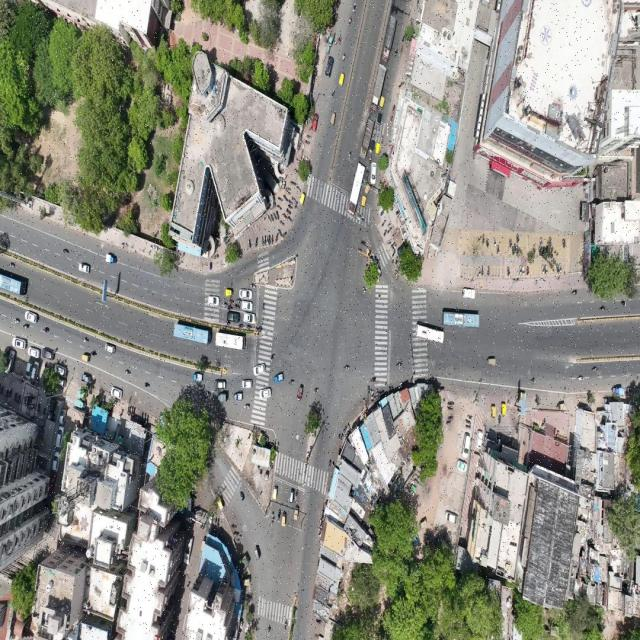3W: (252, 543, 262, 566), (484, 354, 498, 368), (78, 370, 92, 384), (297, 380, 304, 406), (215, 496, 225, 514), (192, 370, 204, 384), (337, 70, 346, 88), (613, 385, 625, 398), (375, 112, 384, 128), (490, 402, 497, 421), (232, 391, 244, 402), (104, 253, 116, 264), (272, 483, 279, 501), (368, 138, 375, 156), (362, 168, 369, 186), (294, 504, 300, 524), (298, 192, 308, 204), (500, 400, 507, 417), (225, 285, 234, 298), (282, 511, 288, 530), (330, 110, 337, 126), (81, 352, 90, 364), (379, 96, 385, 112), (363, 184, 371, 196), (361, 193, 366, 212), (375, 141, 380, 159), (338, 32, 342, 46)
Bus: (172, 320, 211, 347), (442, 308, 481, 328), (414, 323, 444, 348), (0, 273, 22, 299), (215, 332, 247, 349)
Cars: (48, 450, 62, 472), (444, 507, 459, 527), (323, 56, 335, 79), (463, 430, 472, 460), (54, 426, 66, 448), (460, 285, 476, 301), (53, 362, 69, 378), (252, 361, 266, 377), (258, 386, 274, 400), (11, 337, 28, 350), (57, 406, 69, 424), (76, 262, 92, 275), (310, 112, 320, 132), (207, 293, 220, 308), (212, 378, 228, 390), (104, 340, 116, 356), (24, 310, 40, 322), (110, 386, 124, 399), (42, 346, 55, 360), (225, 311, 241, 322), (239, 287, 252, 300), (242, 312, 256, 324), (371, 161, 377, 189), (28, 346, 40, 359), (240, 300, 254, 311), (242, 377, 254, 389), (32, 360, 38, 382), (24, 361, 31, 378), (288, 486, 294, 505)
M2W: (265, 619, 274, 638), (393, 358, 405, 370), (310, 384, 321, 395), (368, 372, 378, 384), (41, 324, 51, 336), (342, 361, 351, 374), (60, 246, 70, 257), (528, 375, 538, 385), (143, 380, 152, 391), (596, 304, 607, 313), (491, 234, 497, 250), (239, 490, 247, 502), (276, 507, 282, 523), (270, 508, 275, 527), (561, 237, 568, 250), (619, 298, 628, 308), (466, 411, 476, 420), (294, 487, 300, 502), (12, 316, 21, 326), (486, 264, 492, 278), (351, 1, 358, 13), (123, 368, 132, 377), (576, 373, 585, 382), (270, 351, 278, 361), (288, 378, 296, 388), (571, 288, 579, 298), (506, 262, 511, 278), (82, 335, 90, 345), (508, 235, 514, 248), (330, 86, 336, 99), (247, 236, 252, 251), (591, 365, 600, 373), (23, 323, 31, 332), (259, 236, 265, 248), (347, 14, 353, 26), (8, 260, 15, 270), (276, 201, 283, 211), (394, 46, 399, 60), (254, 236, 259, 249), (360, 215, 365, 228), (305, 132, 313, 140), (465, 417, 472, 426), (234, 302, 241, 311), (277, 194, 284, 203), (281, 212, 288, 221), (387, 228, 394, 237), (525, 265, 530, 277), (547, 235, 553, 245), (482, 230, 486, 245), (92, 349, 98, 359), (274, 232, 279, 244), (288, 215, 294, 225), (382, 228, 388, 238), (448, 398, 455, 406), (446, 419, 453, 427), (480, 264, 484, 278), (376, 128, 380, 142), (266, 214, 271, 225), (244, 403, 253, 409), (249, 282, 258, 288), (222, 301, 228, 310), (387, 219, 393, 228), (498, 414, 502, 427), (478, 265, 482, 278), (268, 233, 272, 246), (372, 126, 376, 139), (485, 238, 490, 248), (341, 52, 346, 62), (381, 217, 386, 227), (448, 414, 455, 421), (465, 424, 472, 431), (290, 180, 297, 187), (278, 220, 285, 227), (292, 195, 298, 203), (348, 150, 352, 162), (368, 156, 372, 168), (356, 204, 360, 216), (515, 233, 520, 242), (518, 266, 522, 277), (381, 134, 385, 145), (522, 264, 525, 278), (228, 305, 235, 311), (238, 322, 244, 329), (288, 203, 294, 210), (304, 140, 311, 146), (541, 265, 545, 275), (544, 264, 548, 274), (539, 234, 543, 244), (224, 321, 232, 326), (273, 212, 277, 222), (387, 238, 392, 246), (357, 214, 361, 224), (448, 406, 454, 412), (228, 299, 234, 305), (286, 186, 292, 192), (247, 325, 254, 330), (497, 244, 500, 255), (264, 235, 267, 246), (236, 297, 240, 304)
Truck: (348, 162, 364, 219), (371, 65, 388, 112), (382, 10, 397, 62), (360, 115, 374, 159)
